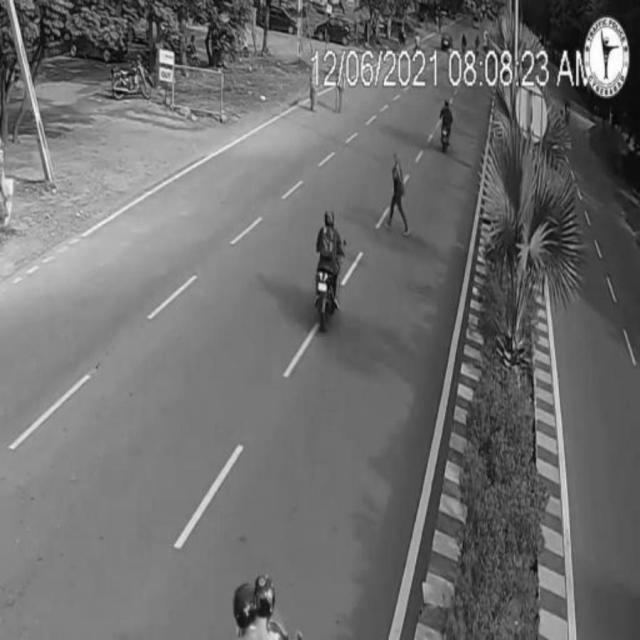person: (387, 149, 412, 239)
vehicle: (317, 213, 347, 321), (438, 101, 456, 152)
